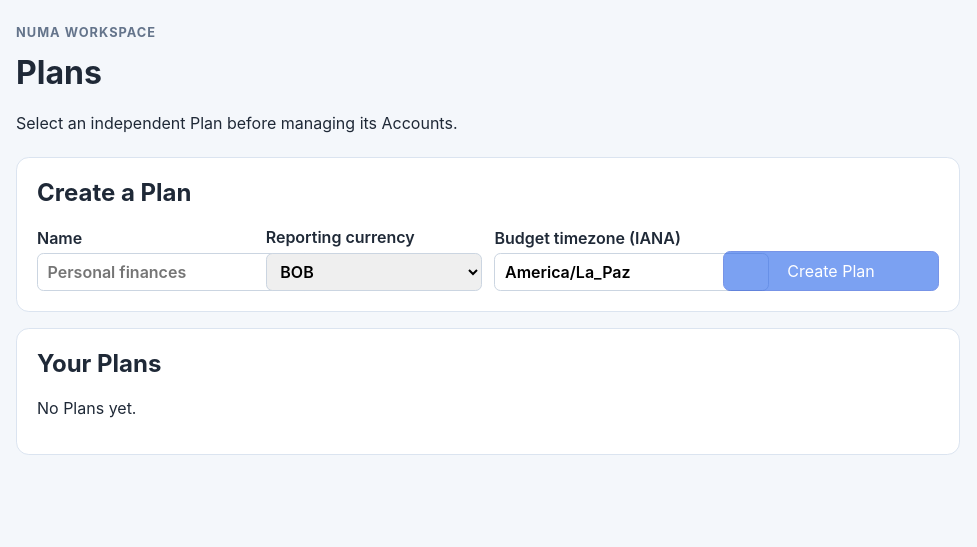
Scenario: minimal authoritative client flows › creates and selects a Plan using server responses
The image size is (977, 547).
Expected: the heading "Plans" is shown, [16, 53, 102, 92]
Type "Personal Plan" into the field labelled "Name" at (174, 272), box [37, 253, 311, 291]
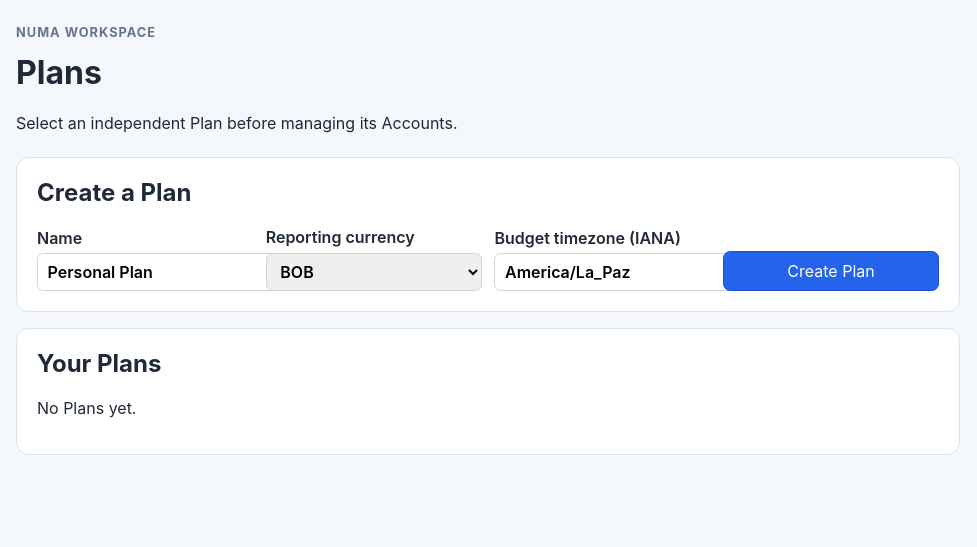
Click the button "Create Plan" at (831, 271), box [723, 251, 939, 291]
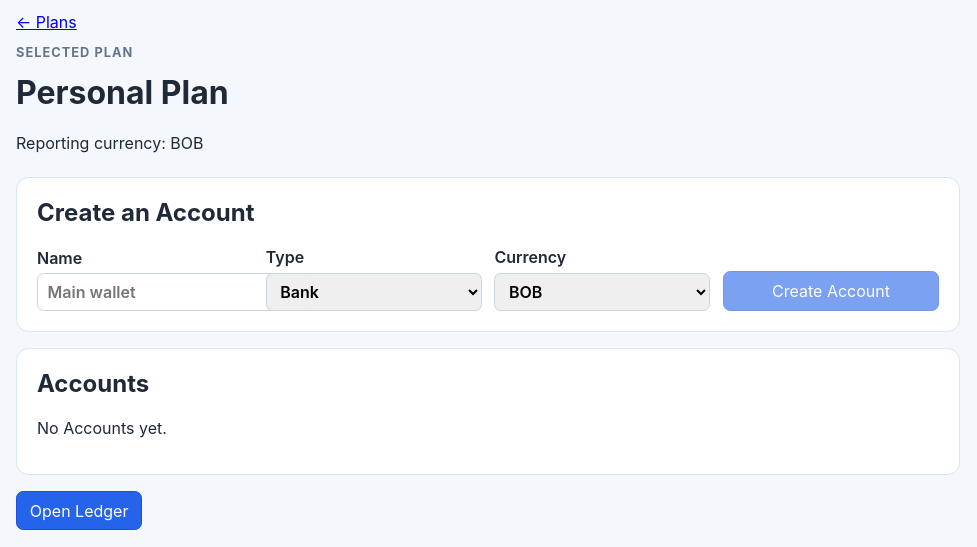
Now the heading "Personal Plan" is shown, box [16, 73, 229, 112]
